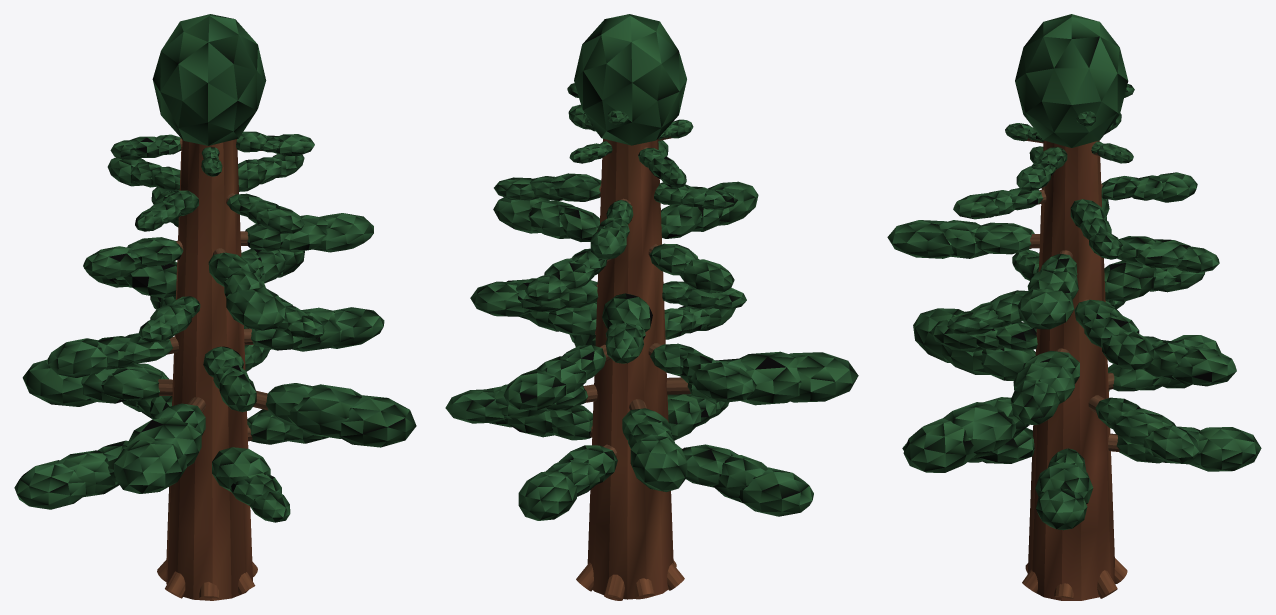
File: small-lod0.glb
The picture shows the model from 3 angles, left to right: view 1: azimuth 30°, elevation 25°; view 2: azimuth 150°, elevation 25°; view 3: azimuth 270°, elevation 25°; orthographic projection.
Parts seen in each view (by area): view 1: pine-trunk-branches-needles; view 2: pine-trunk-branches-needles; view 3: pine-trunk-branches-needles.
Part boxes in pixels (x1,y1,x2,y2): pine-trunk-branches-needles: (14, 14, 416, 600); pine-trunk-branches-needles: (445, 14, 858, 600); pine-trunk-branches-needles: (887, 14, 1261, 600).
Size of the model in its own units: 8.59 by 13.33 by 7.94.
